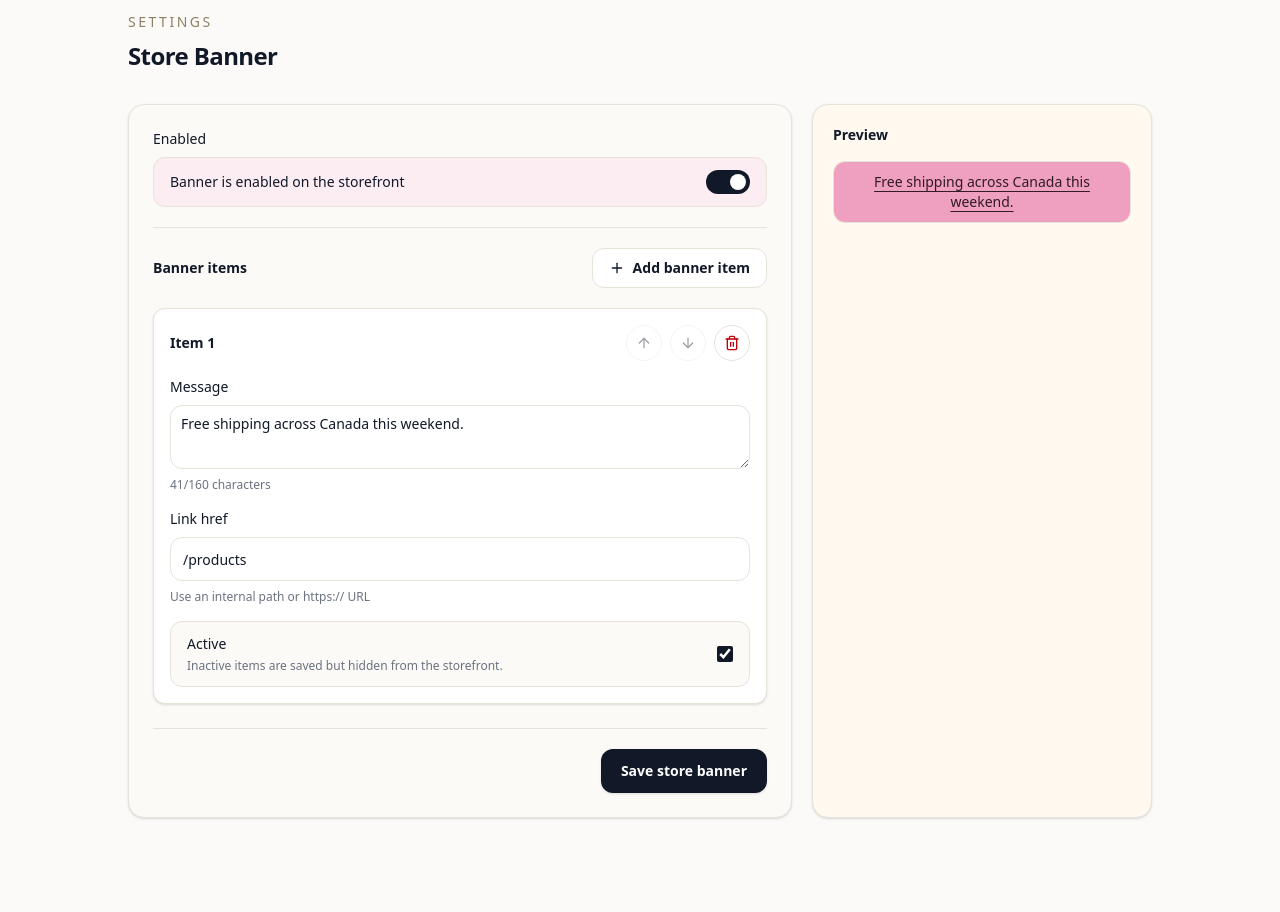
Test case: AdminStoreBannerSettingsPage › renders a destructive alert on request error
Click the button "Save store banner" at (684, 771), box [601,749,767,793]
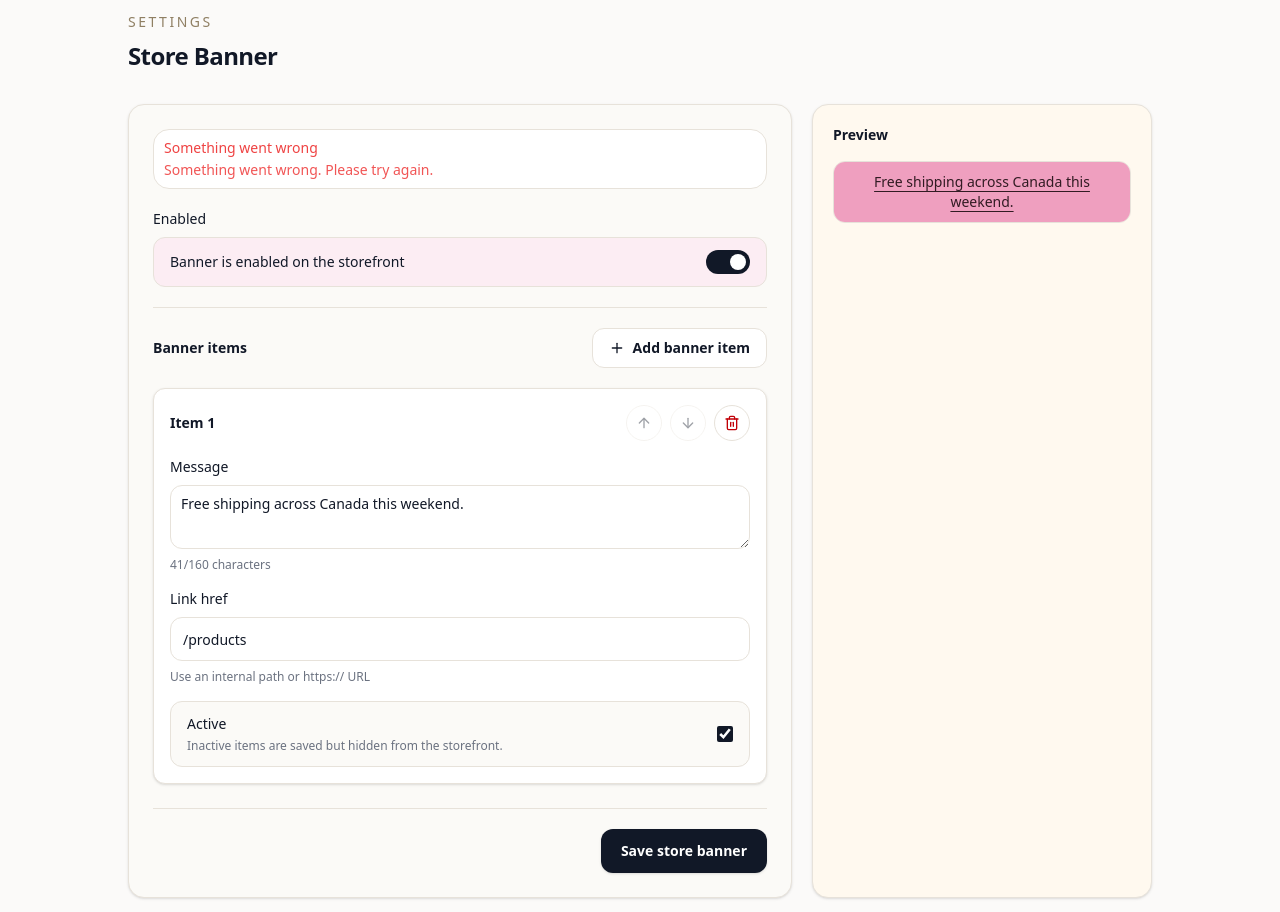
expect the message shows "Something went wrong": met, box [164,138,318,157]
expect the message shows "Something went wrong. Please try again.": met, box [164,160,433,179]
